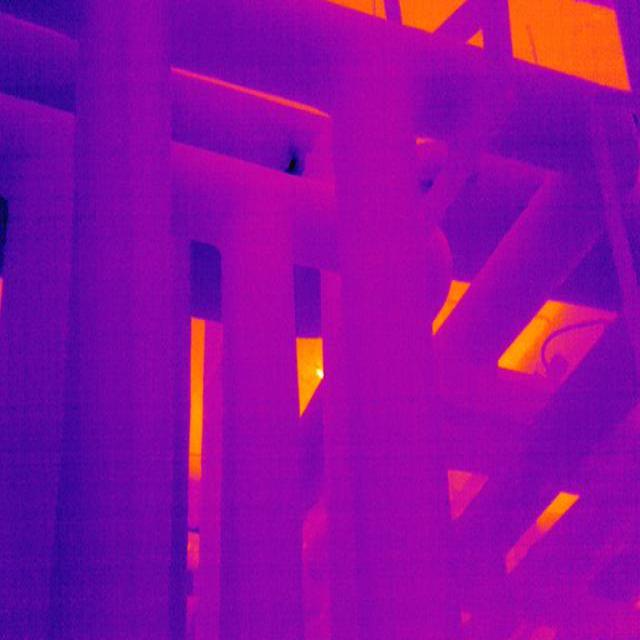leakage: (278, 134, 306, 178)
